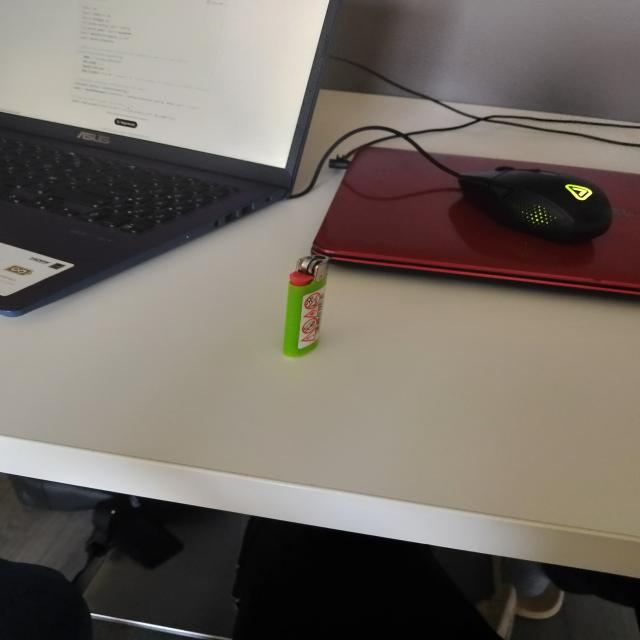lighter: (280, 254, 329, 357)
